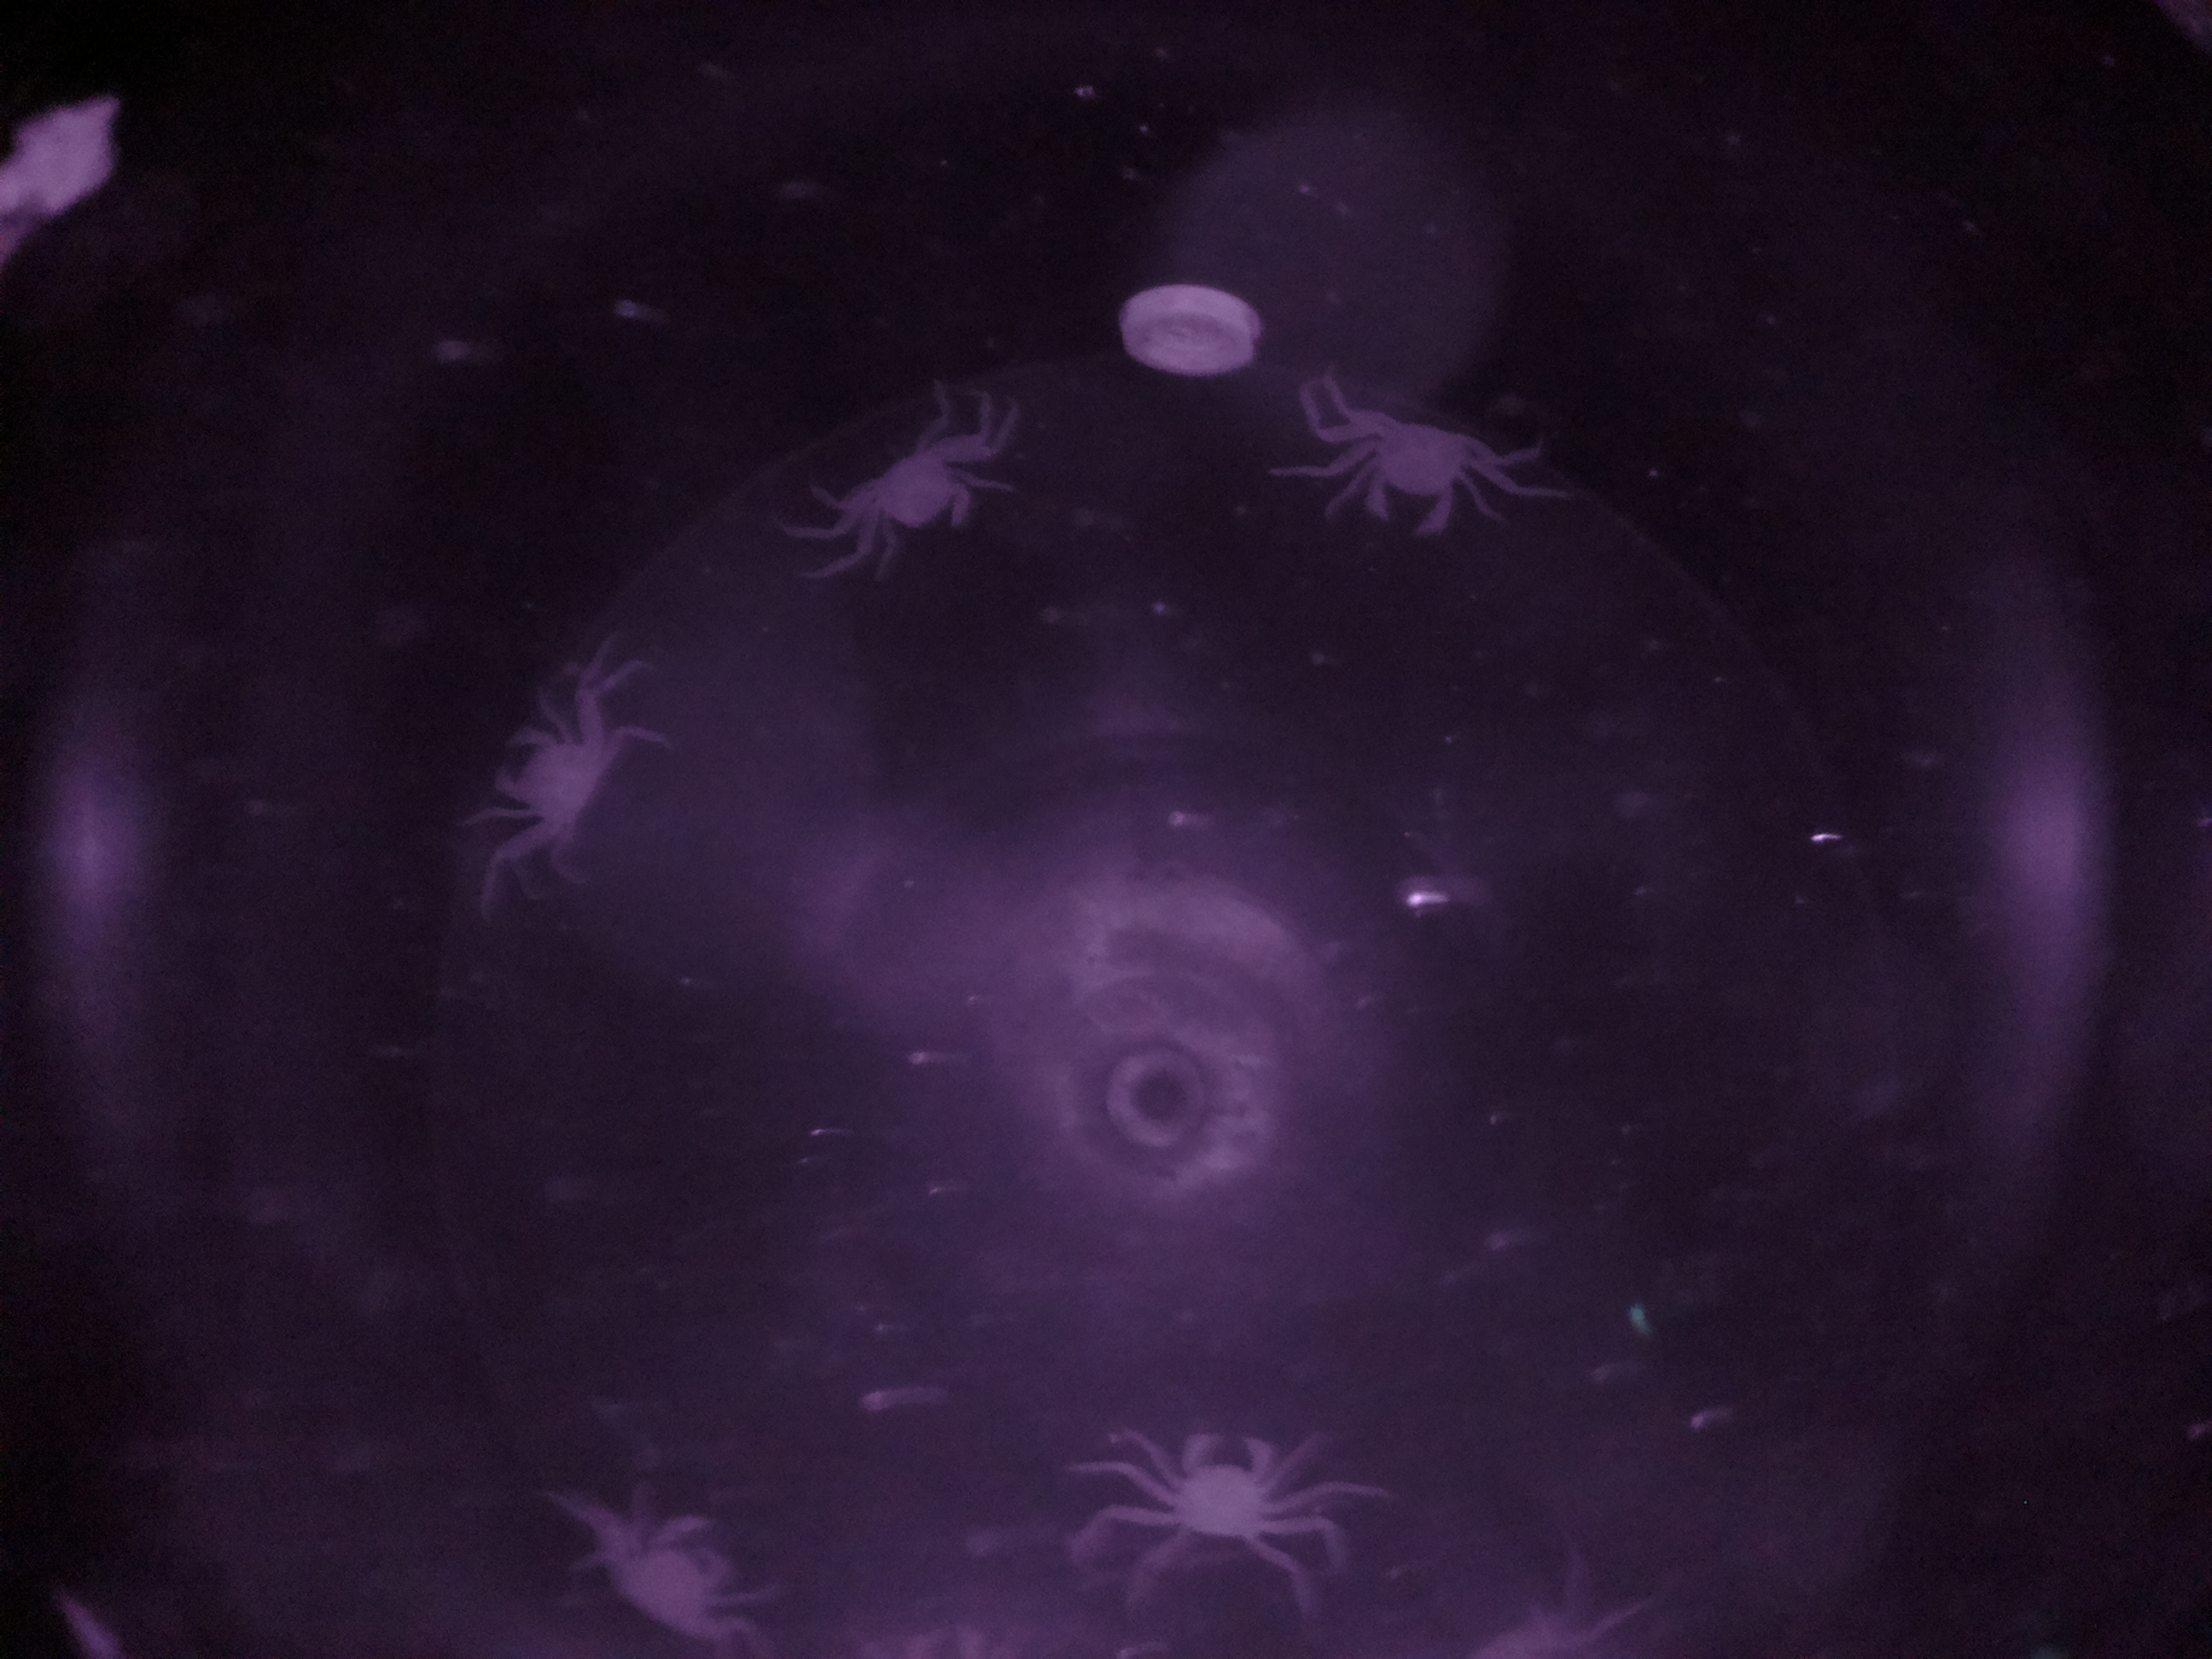Crab: (1284, 406, 1534, 538), (493, 692, 644, 873), (1122, 1415, 1318, 1554), (826, 408, 988, 566)
